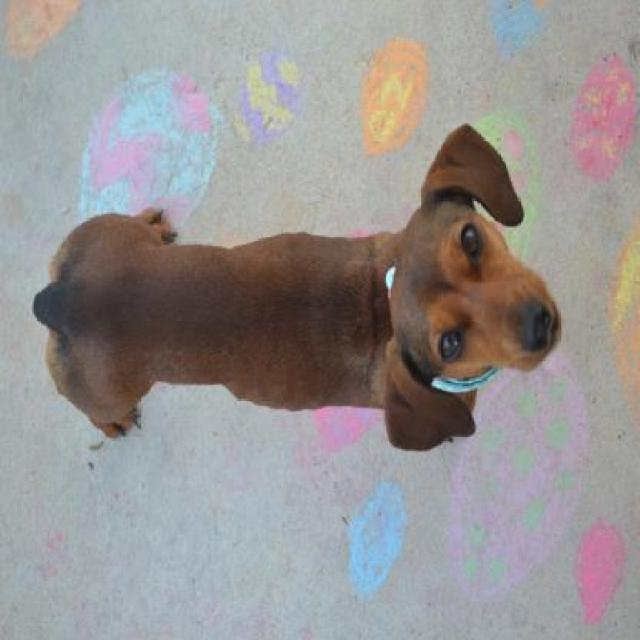Dog: (28, 120, 566, 454)
